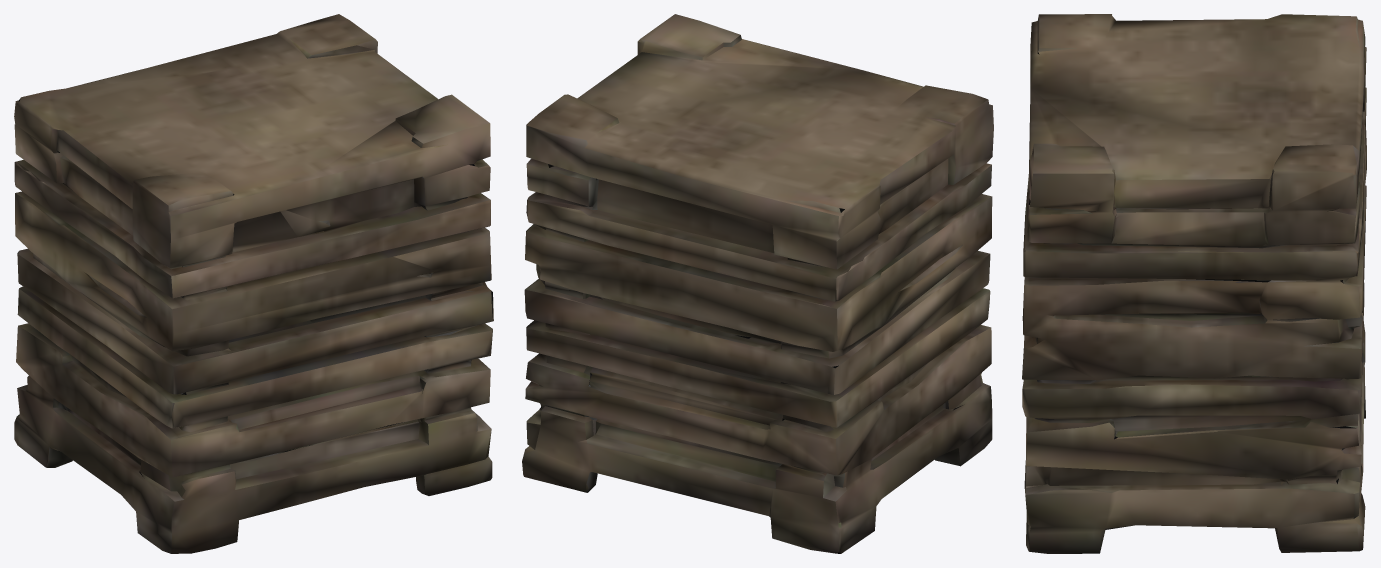
Rendered from ancient-wood-crate-v001.glb.
The picture shows the model from 3 angles, left to right: view 1: azimuth 30°, elevation 25°; view 2: azimuth 150°, elevation 25°; view 3: azimuth 270°, elevation 25°; orthographic projection. The views are drawn at different scales.
Visible parts, largest first — view 1: ancient-wood-crate; view 2: ancient-wood-crate; view 3: ancient-wood-crate.
Part boxes in pixels (x1,y1,x2,y2): ancient-wood-crate: (14,14,493,553); ancient-wood-crate: (522,14,993,553); ancient-wood-crate: (1022,14,1366,553).
Bounding box in the file's own units: 0.8665 × 0.9198 × 0.7467.
1 material, 1 textured.
